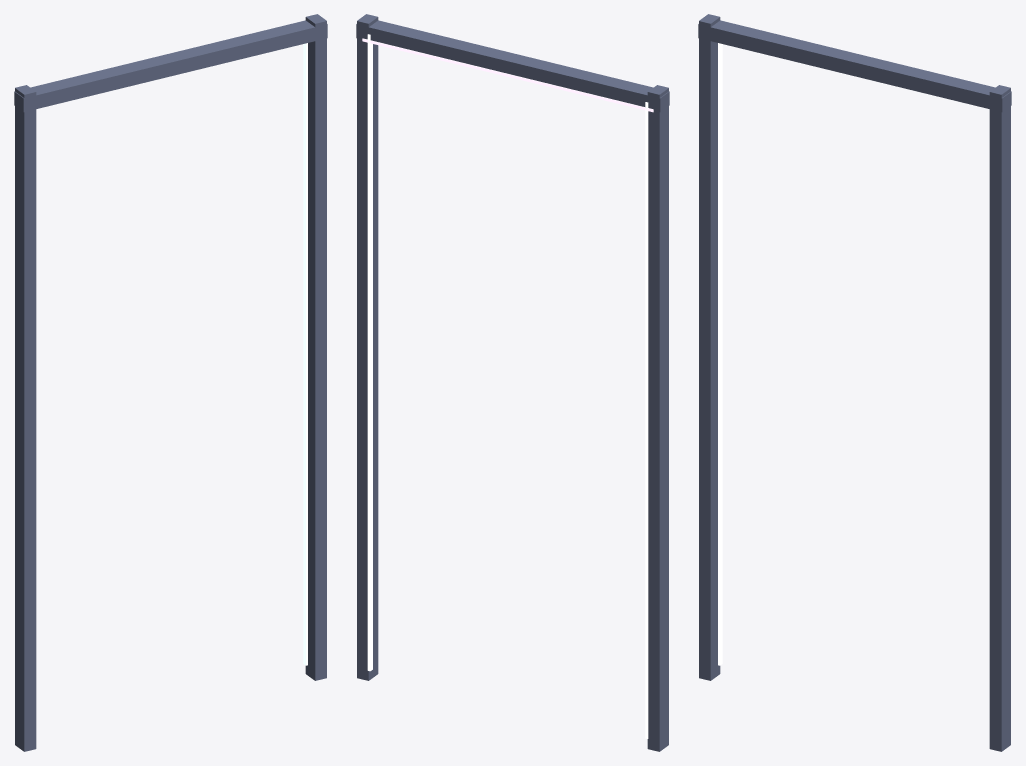
Rendered from arena.glb.
The picture shows the model from 3 angles, left to right: view 1: azimuth 30°, elevation 25°; view 2: azimuth 150°, elevation 25°; view 3: azimuth 330°, elevation 25°; orthographic projection.
Parts seen in each view (by area): view 1: arena; view 2: arena; view 3: arena.
Boxes of the visible parts, <box> form: arena: <box>14,14,327,751</box>; arena: <box>356,14,669,751</box>; arena: <box>698,14,1011,751</box>.
Bounding box in the file's own units: 9.2 × 19 × 0.52.
